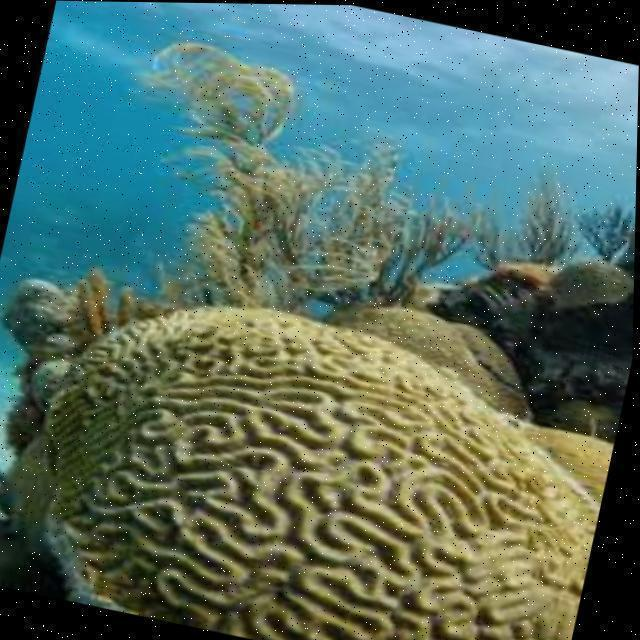Healthy Coral: (0, 243, 609, 640)
